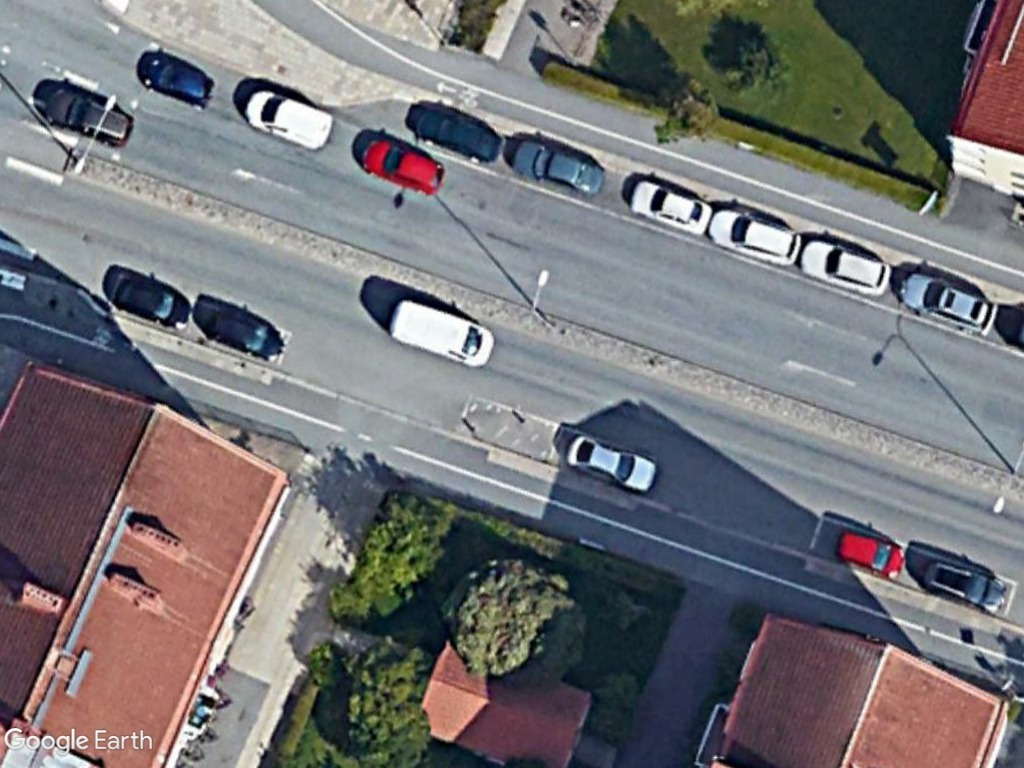car: (894, 265, 1006, 339), (794, 232, 897, 308), (509, 131, 613, 203), (40, 81, 140, 154), (705, 202, 811, 269), (560, 431, 665, 498), (239, 83, 339, 153), (401, 103, 504, 169), (917, 553, 1012, 621), (620, 171, 715, 239), (355, 133, 453, 197), (197, 299, 288, 365), (110, 269, 195, 339), (827, 520, 912, 587), (136, 50, 220, 116)
van: (381, 290, 497, 373)
